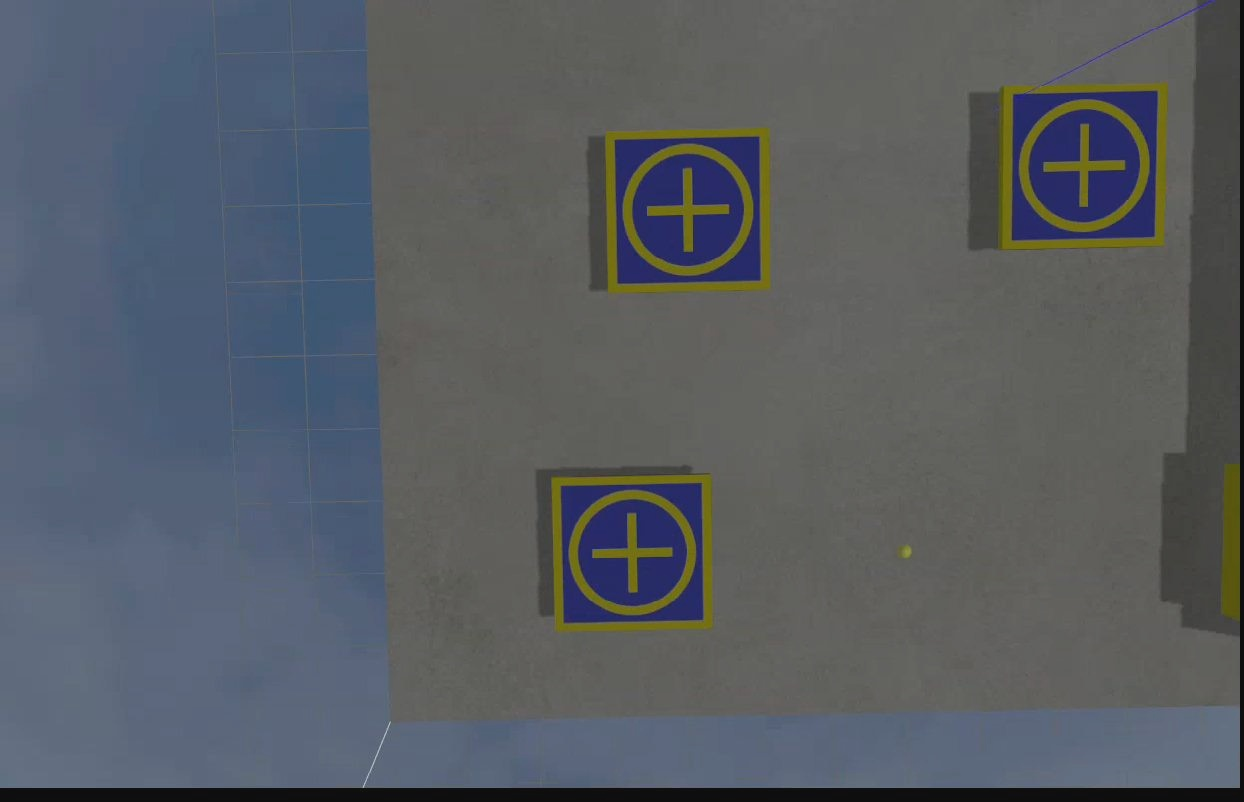small_base: (997, 81, 1169, 250), (603, 127, 773, 297), (552, 473, 714, 635)
